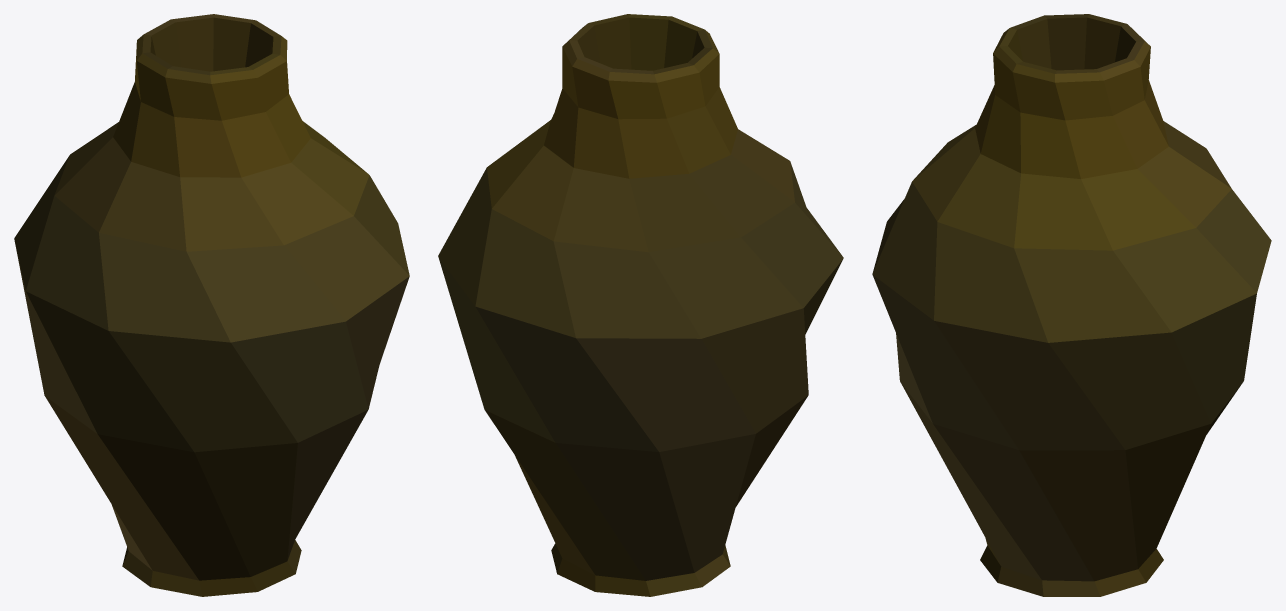
Rendered from Prop_VaseA.fbx.
3 views of the same model, side by side, from view 1: azimuth 30°, elevation 25°; view 2: azimuth 150°, elevation 25°; view 3: azimuth 270°, elevation 25° (orthographic).
Parts seen in each view (by area): view 1: Prop_VaseA; view 2: Prop_VaseA; view 3: Prop_VaseA.
Boxes of the visible parts, <box> form: Prop_VaseA: <box>14,14,409,596</box>; Prop_VaseA: <box>438,14,843,596</box>; Prop_VaseA: <box>872,14,1271,596</box>.
Bounding box in the file's own units: 27.97 × 39.36 × 27.61.
